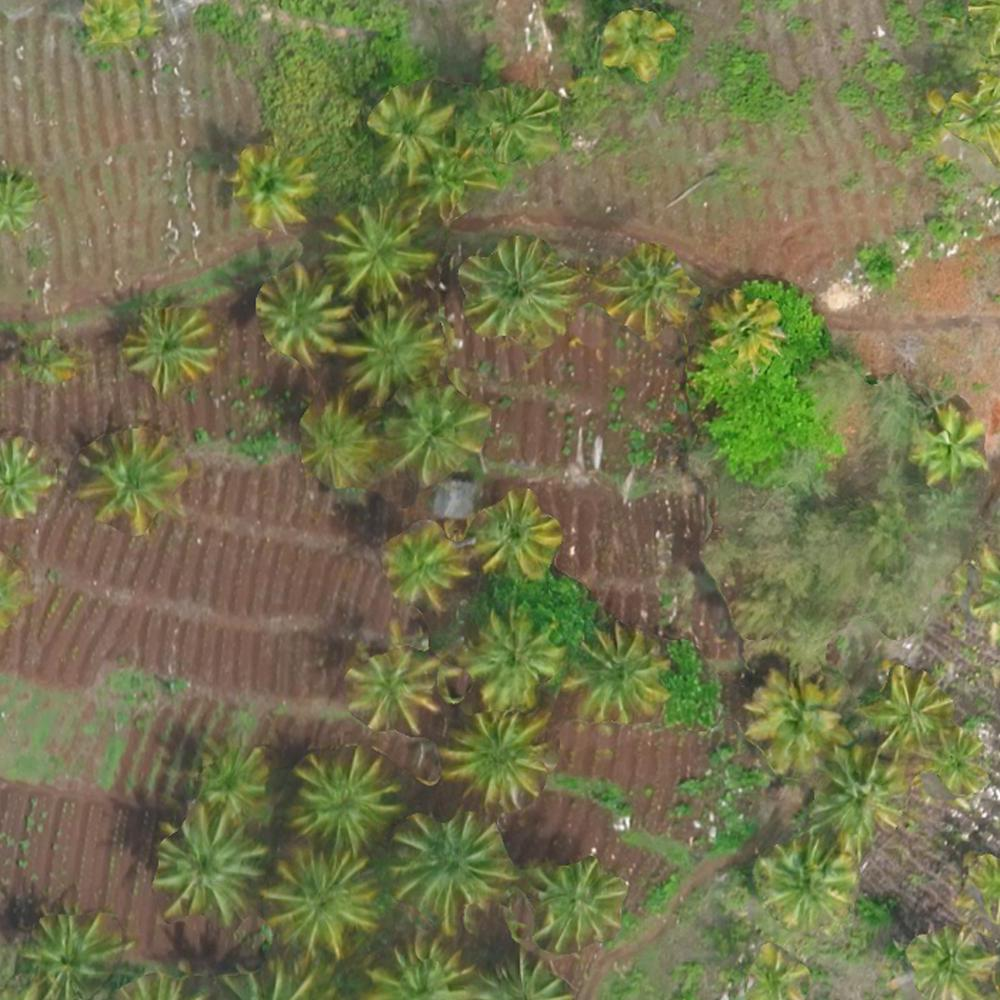not palm: (740, 10, 824, 89), (790, 130, 868, 211), (690, 122, 769, 200), (242, 11, 325, 85), (917, 268, 1000, 340), (1, 705, 78, 781), (5, 792, 83, 867), (179, 575, 255, 651), (548, 400, 624, 476), (643, 771, 721, 845), (72, 593, 146, 670), (830, 10, 903, 88), (719, 409, 795, 481), (885, 192, 959, 265), (66, 100, 137, 164)
